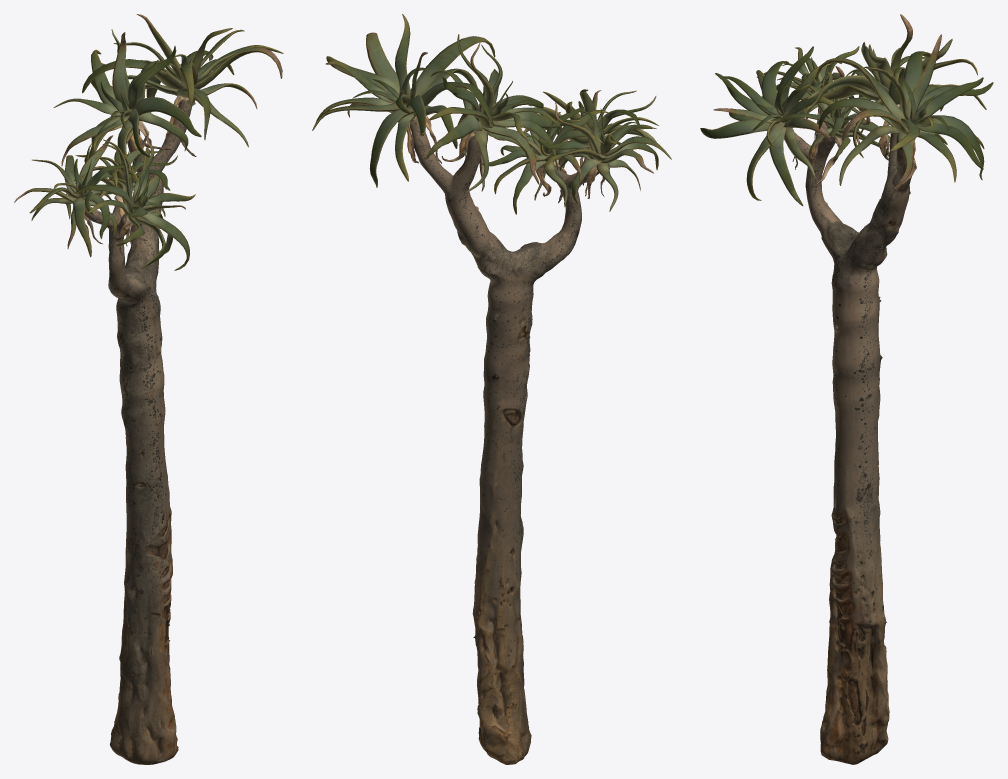
File: quiver_tree_01_lod.glb
3 views of the same model, side by side, from view 1: azimuth 30°, elevation 25°; view 2: azimuth 150°, elevation 25°; view 3: azimuth 270°, elevation 25° (orthographic). The views are drawn at different scales.
Visible parts, largest first — view 1: quiver_tree_01; view 2: quiver_tree_01; view 3: quiver_tree_01.
Part boxes in pixels (x1,y1,x2,y2): quiver_tree_01: [14, 14, 283, 764]; quiver_tree_01: [312, 14, 671, 764]; quiver_tree_01: [700, 14, 993, 764].
Size of the model in its own units: 1.18 by 2.72 by 0.9685.
2 materials, 2 textured.
